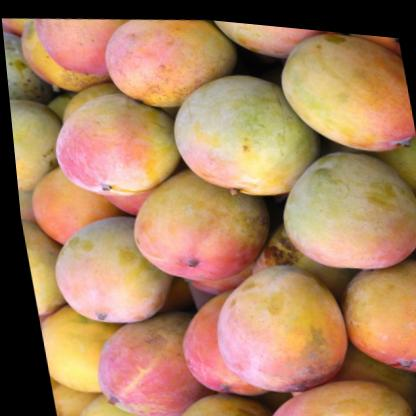--: (194, 243, 364, 404), (163, 51, 336, 208), (256, 133, 416, 277), (34, 65, 190, 212), (269, 20, 416, 159), (40, 199, 179, 335)
